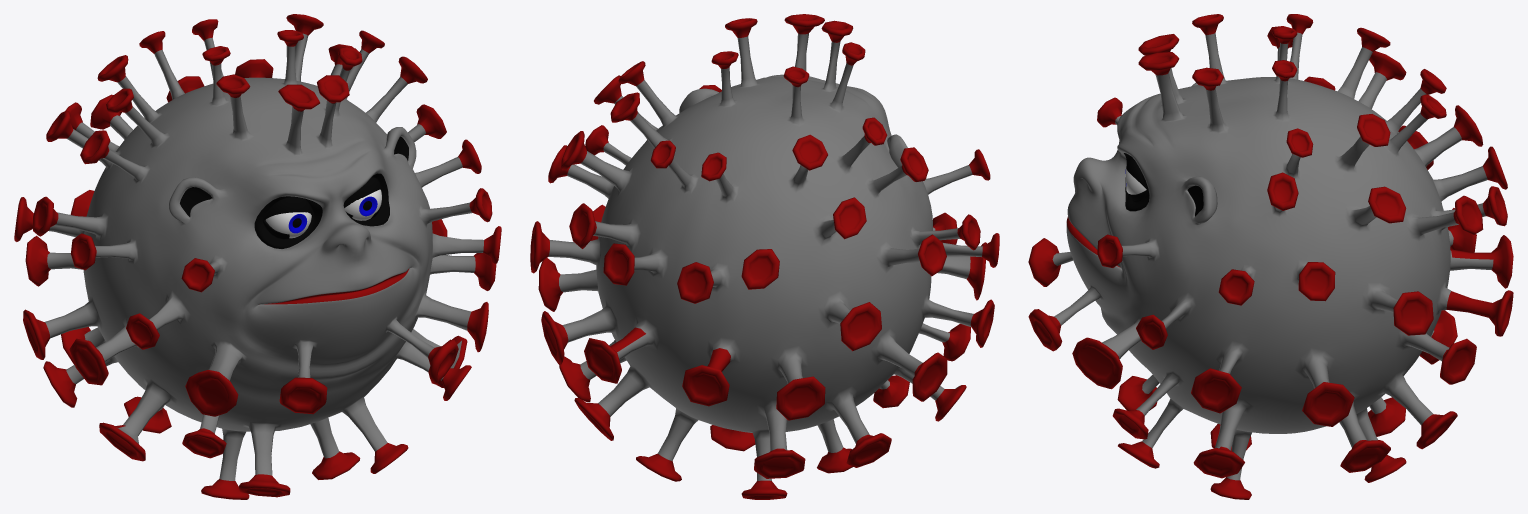
Rendered from Corona_01.fbx.
3 renders of one model, left to right at view 1: azimuth 30°, elevation 25°; view 2: azimuth 150°, elevation 25°; view 3: azimuth 270°, elevation 25°, orthographic. The views are drawn at different scales.
Visible parts, largest first — view 1: polySurface3; view 2: polySurface3; view 3: polySurface3.
Part boxes in pixels (x1=…): polySurface3: x1=14, y1=14, x2=501, y2=499; polySurface3: x1=530, y1=14, x2=999, y2=499; polySurface3: x1=1028, y1=14, x2=1513, y2=499.
Size of the model in its own units: 11.62 by 11.6 by 11.84.
